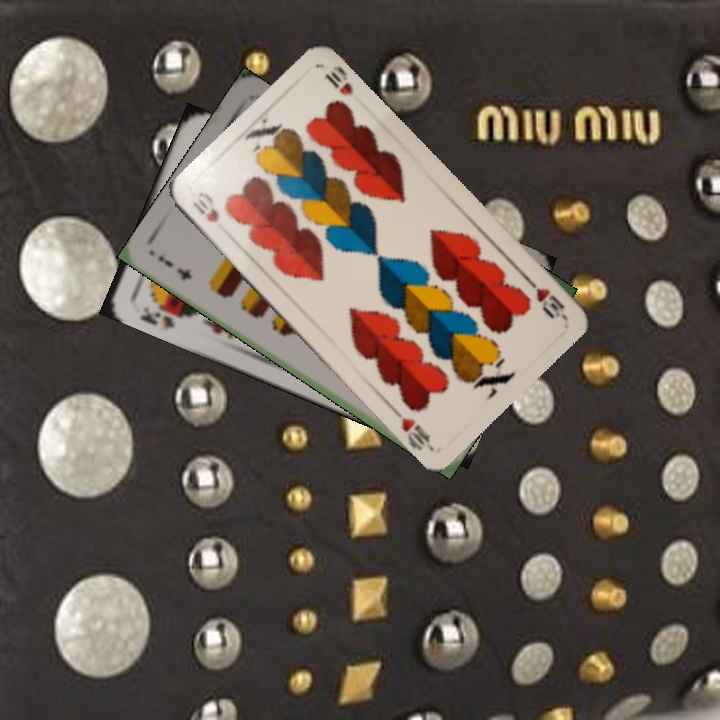E7: (154, 251, 195, 283)
H10: (522, 273, 567, 322), (188, 188, 222, 226)
SK: (136, 303, 178, 333)
